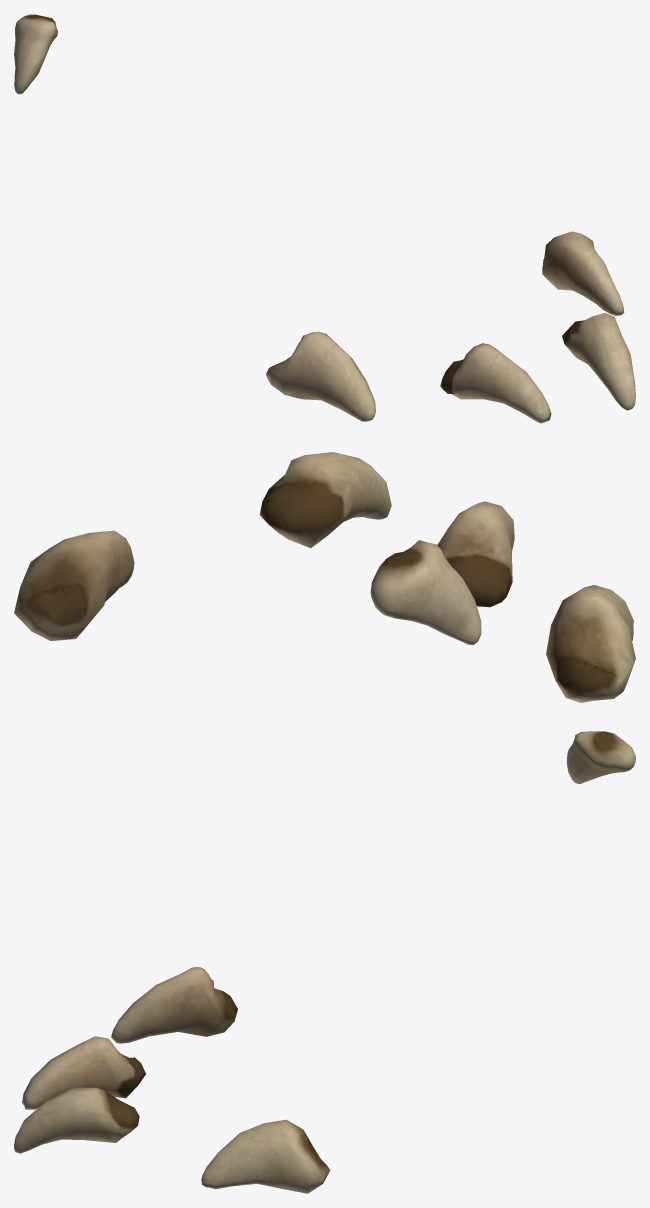
Rendered from Distal_Phalanges.glb.
3 renders of one model, top to bottom at view 1: azimuth 30°, elevation 25°; view 2: azimuth 150°, elevation 25°; view 3: azimuth 270°, elevation 25°, orthographic. The views are drawn at different scales.
Parts seen in each view (by area): view 1: polySurface19, polySurface20, polySurface22, polySurface21, polySurface18; view 2: polySurface22, polySurface21, polySurface19, polySurface18, polySurface20; view 3: polySurface22, polySurface19, polySurface21, polySurface20, polySurface18.
Part boxes in pixels (x1,y1,x2,y2): polySurface19: [266, 331, 375, 421]; polySurface20: [440, 343, 551, 423]; polySurface22: [542, 231, 624, 315]; polySurface21: [562, 313, 635, 410]; polySurface18: [14, 14, 57, 94]; polySurface22: [14, 530, 134, 640]; polySurface21: [259, 452, 391, 548]; polySurface19: [546, 585, 635, 702]; polySurface18: [370, 540, 481, 644]; polySurface20: [437, 501, 514, 607]; polySurface22: [201, 1119, 330, 1193]; polySurface19: [111, 967, 237, 1043]; polySurface21: [14, 1087, 139, 1153]; polySurface20: [22, 1036, 145, 1109]; polySurface18: [566, 731, 635, 784].
Bounding box in the file's own units: 54.56 × 30.64 × 64.95.
Materials: 1 (1 with a texture image).
